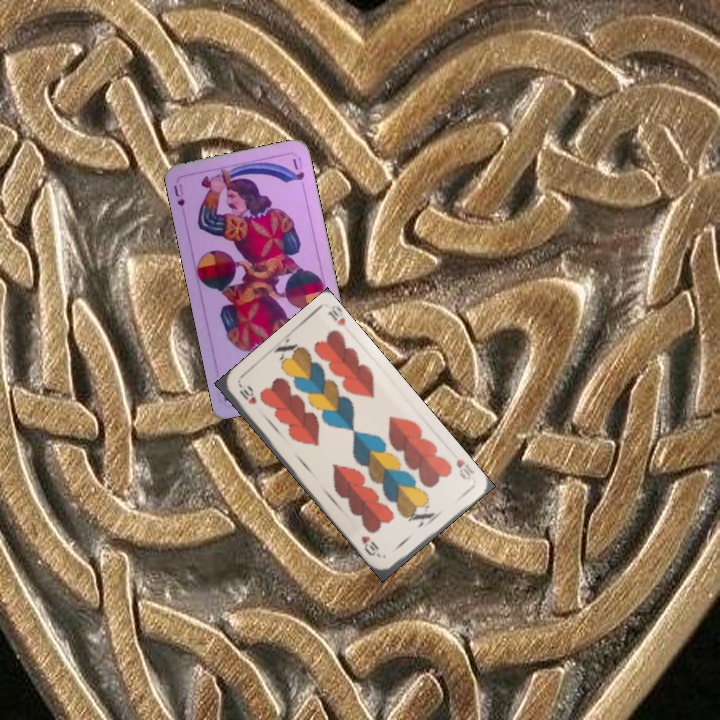H10: (452, 454, 477, 483), (235, 381, 259, 407)
SU: (169, 178, 187, 209)
